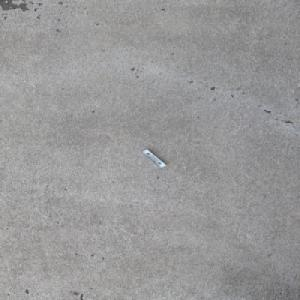ClampPart: (139, 148, 167, 168)
